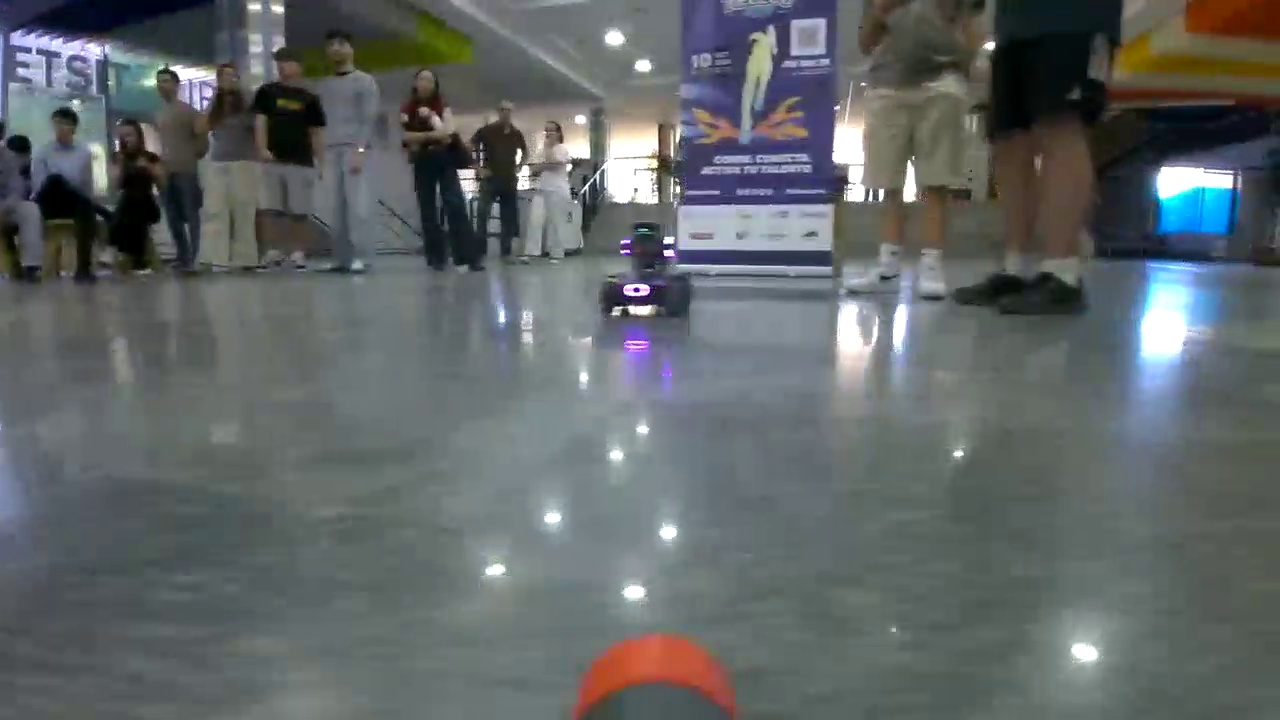robot: (600, 218, 692, 312)
